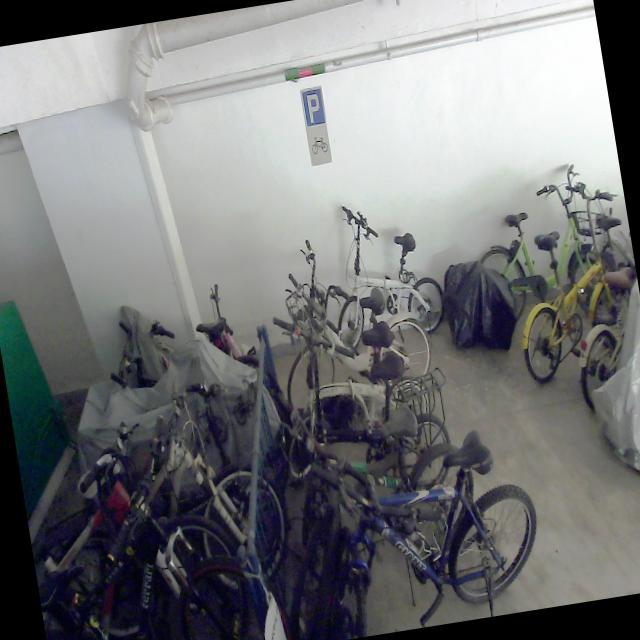bike: (37, 370, 296, 628), (262, 420, 549, 640), (15, 405, 258, 640), (280, 374, 485, 567), (264, 220, 436, 408), (266, 294, 438, 480), (497, 173, 640, 384), (464, 157, 624, 344), (319, 190, 451, 352)
